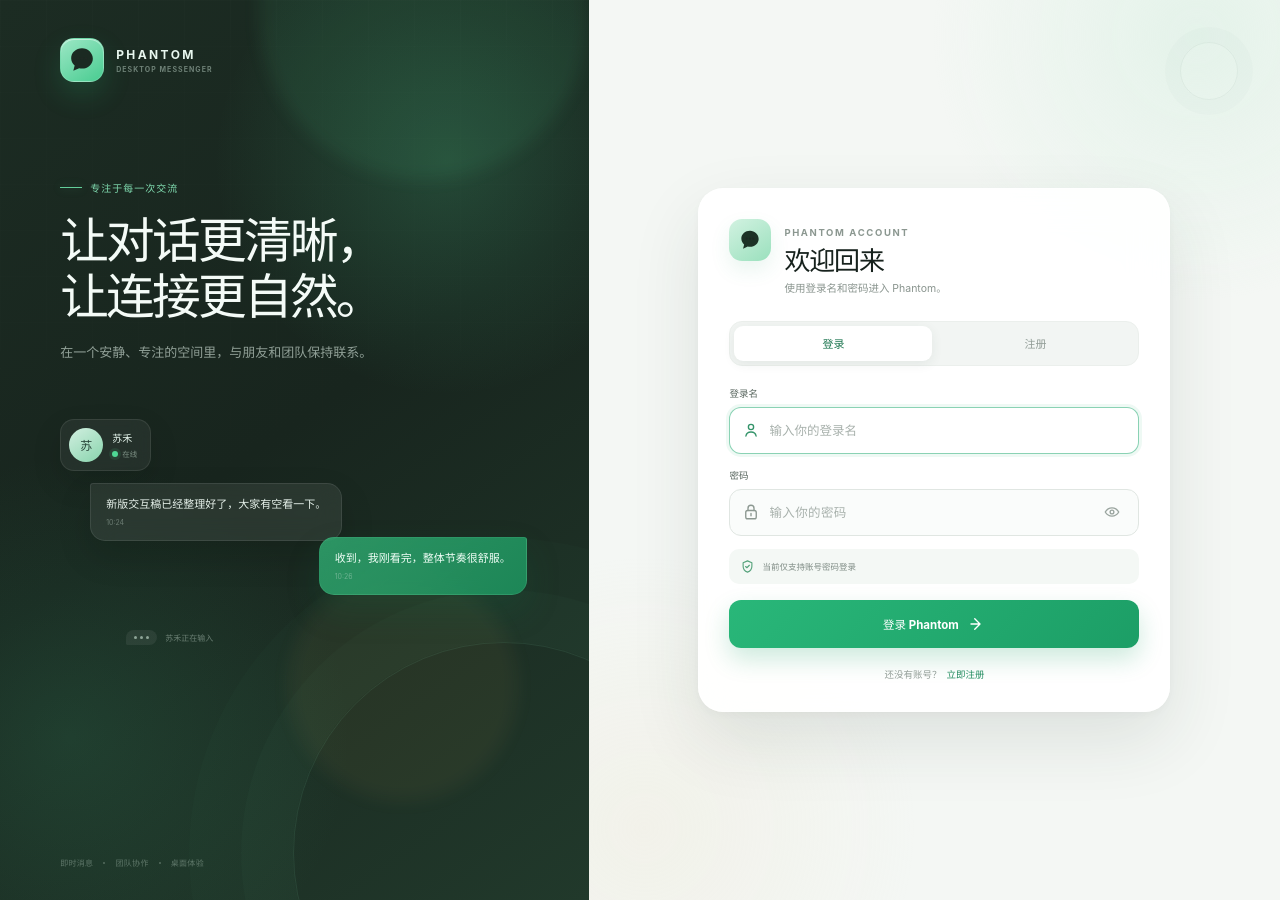
Test: AuthScreen › 登录失败保持未登录并展示服务端字段错误
Type "alice_1" into the field labelled "登录名" at (948, 430), box [769,408,1126,453]
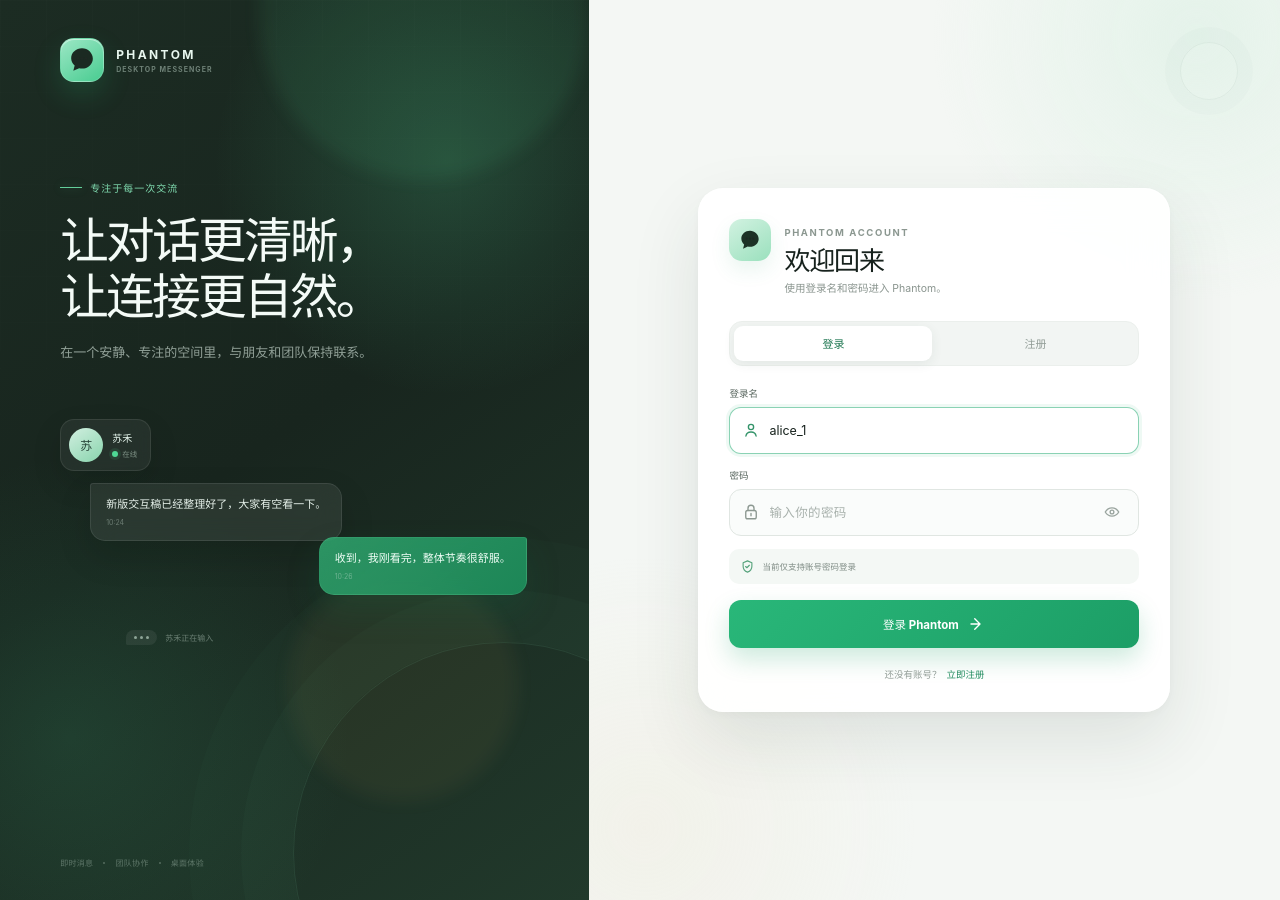
Type "wrong-password" into the password field labelled "密码" at (929, 512), box [769,490,1089,535]
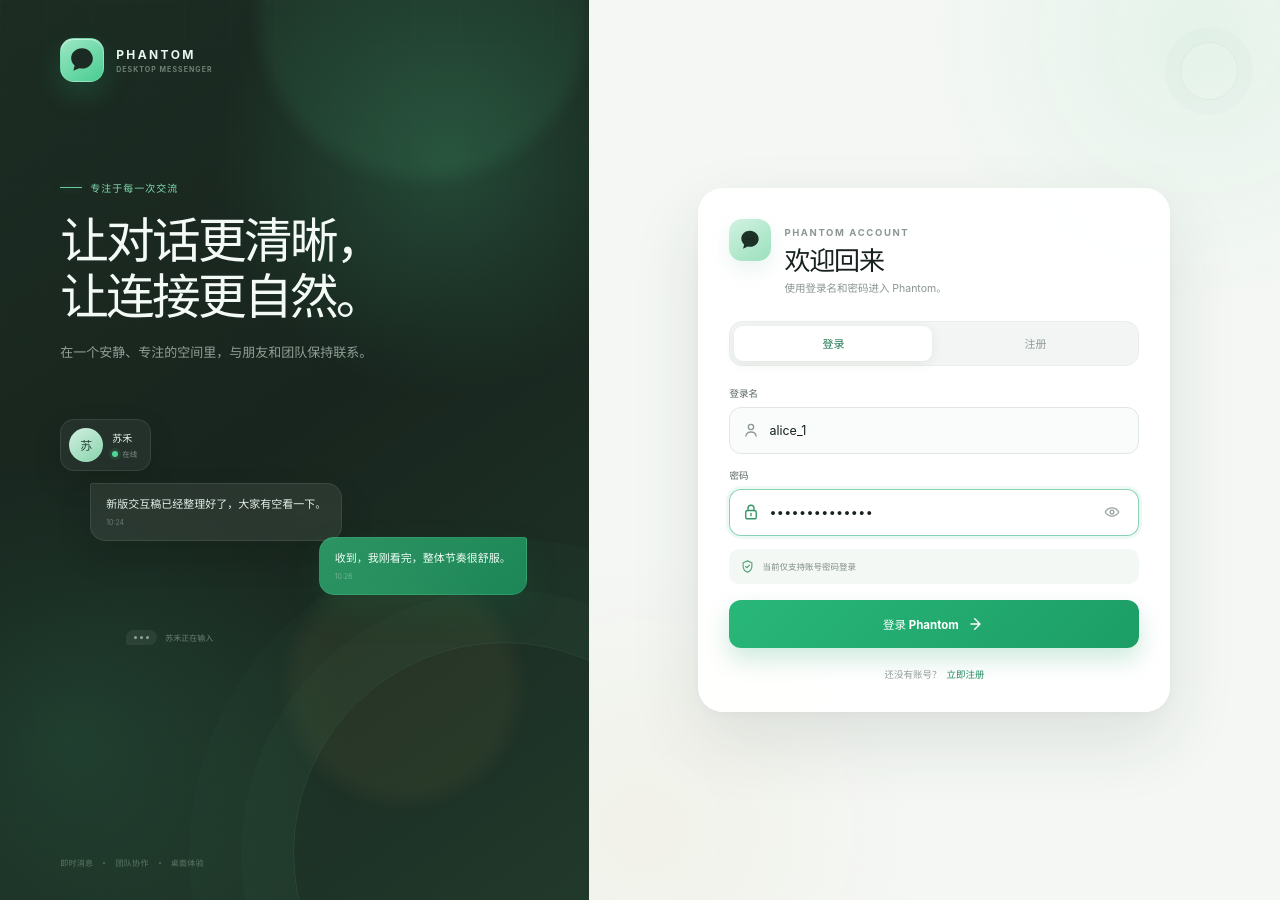
Click the button with test id "auth-login-submit" at (934, 624), box [729,600,1139,648]
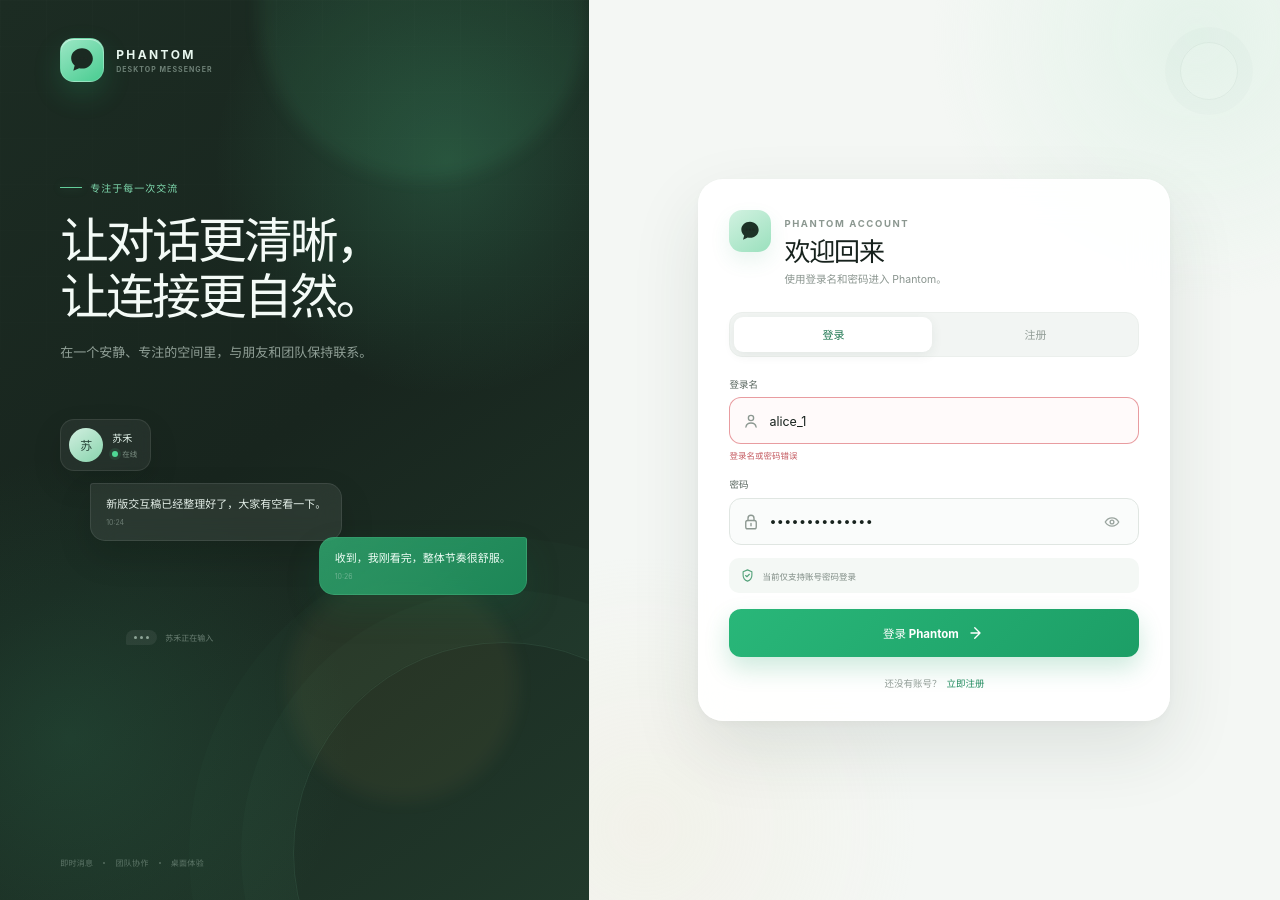
Expected: the button with test id "auth-login-submit" is enabled, [729,609,1139,657]
Result: the text "登录名或密码错误" is shown at [729,451,797,461]
